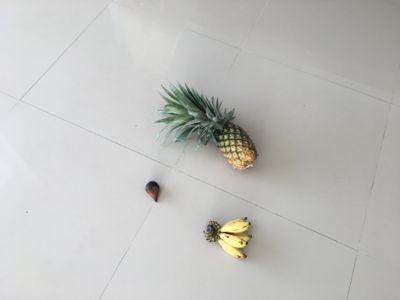banana: (204, 217, 253, 262)
pineapple: (153, 81, 258, 172)
snake fruit: (144, 181, 162, 204)
